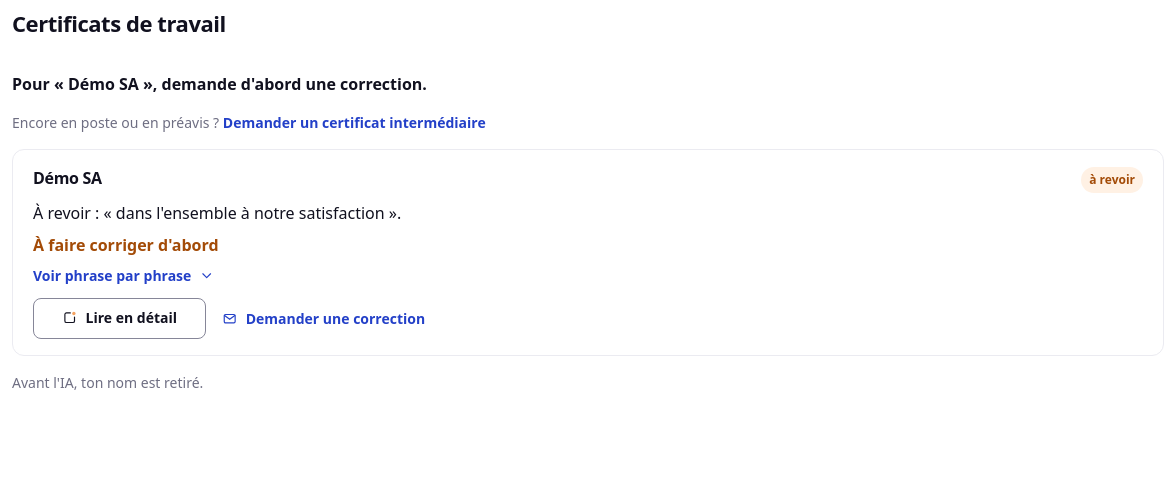
Test: Certificats de travail › sans certificat : rien ; l'IA indisponible : le dit
Click the button with test id "certificate-read-2": (120, 319) [33, 298, 206, 339]
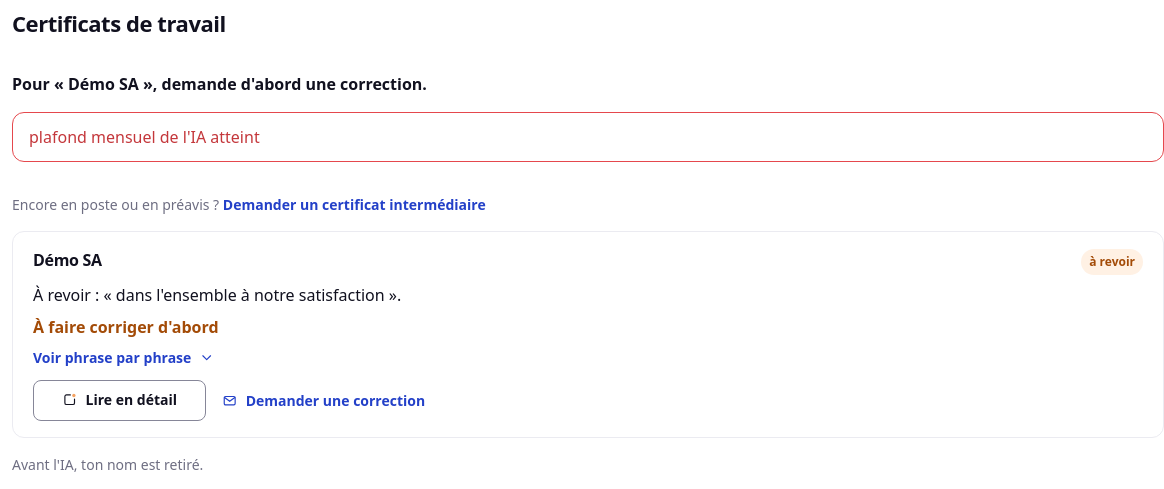
Now the message "plafond mensuel de l'IA atteint" is shown, box [12, 112, 1163, 162]
